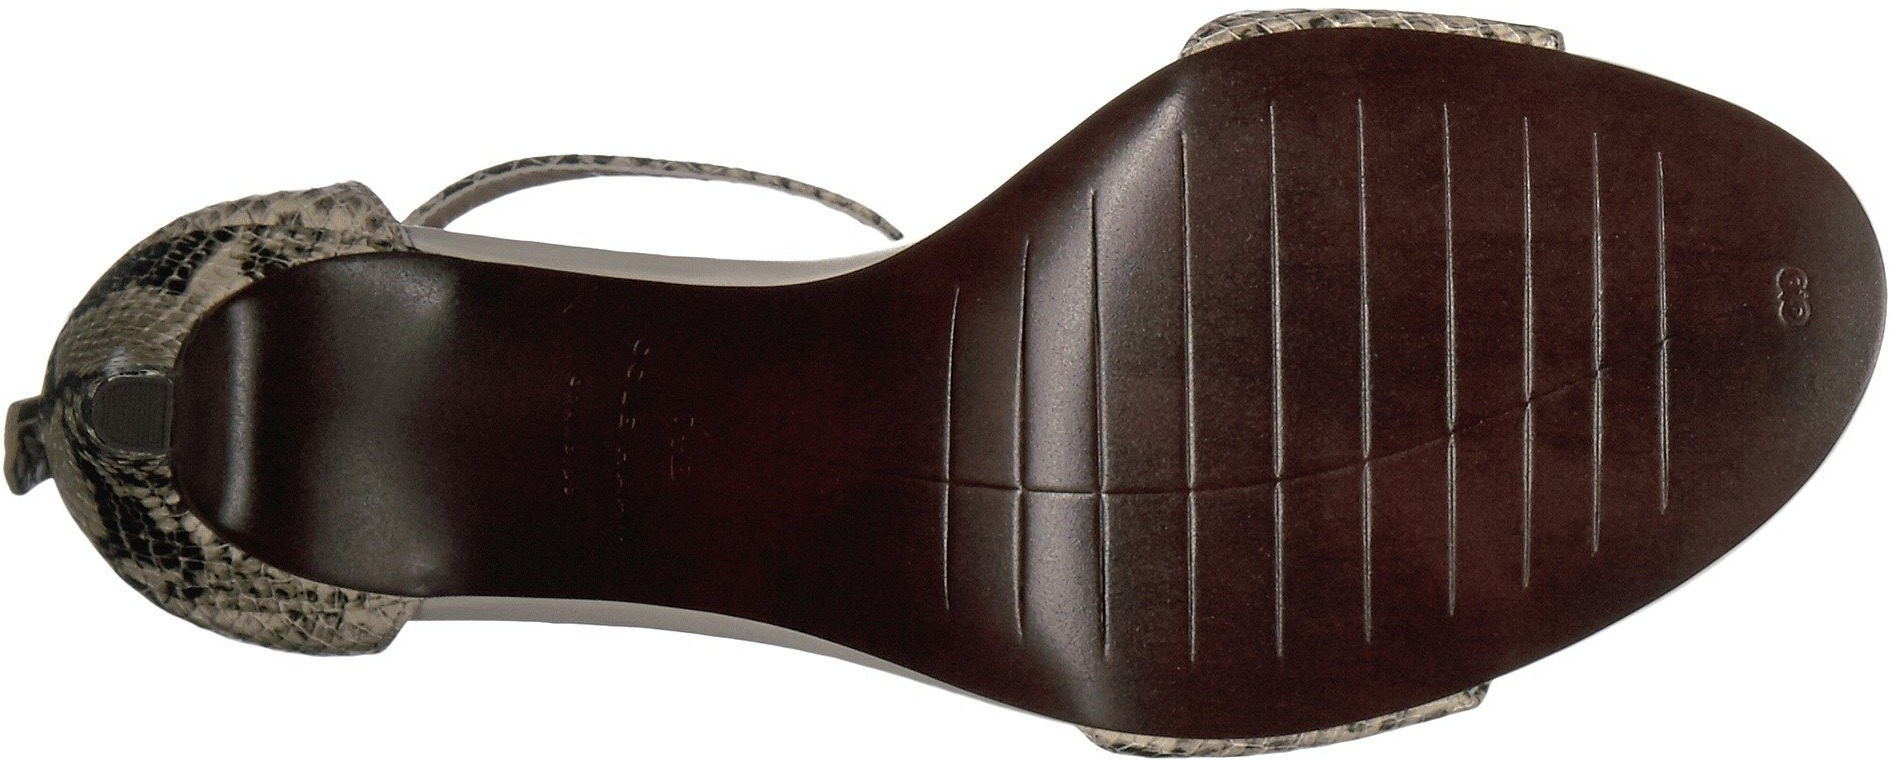exclude: (171, 232, 944, 677)
line: (912, 88, 1730, 715)
quad: (93, 374, 174, 447)
